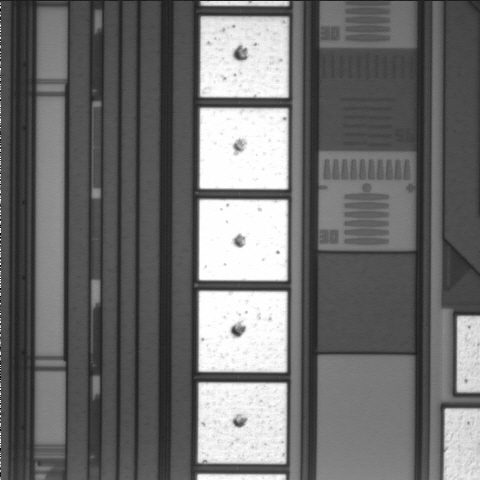pad: (200, 16, 289, 98), (199, 199, 288, 281), (199, 108, 288, 189), (198, 291, 287, 372), (198, 383, 287, 464)
